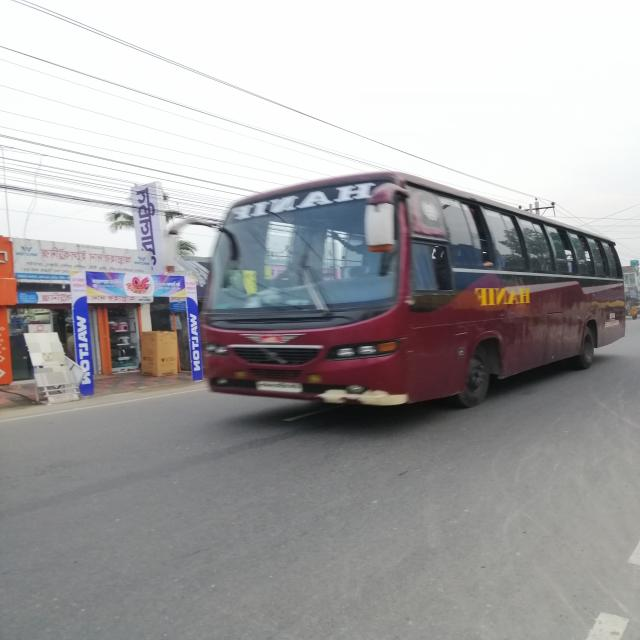Bus: (179, 166, 632, 416)
